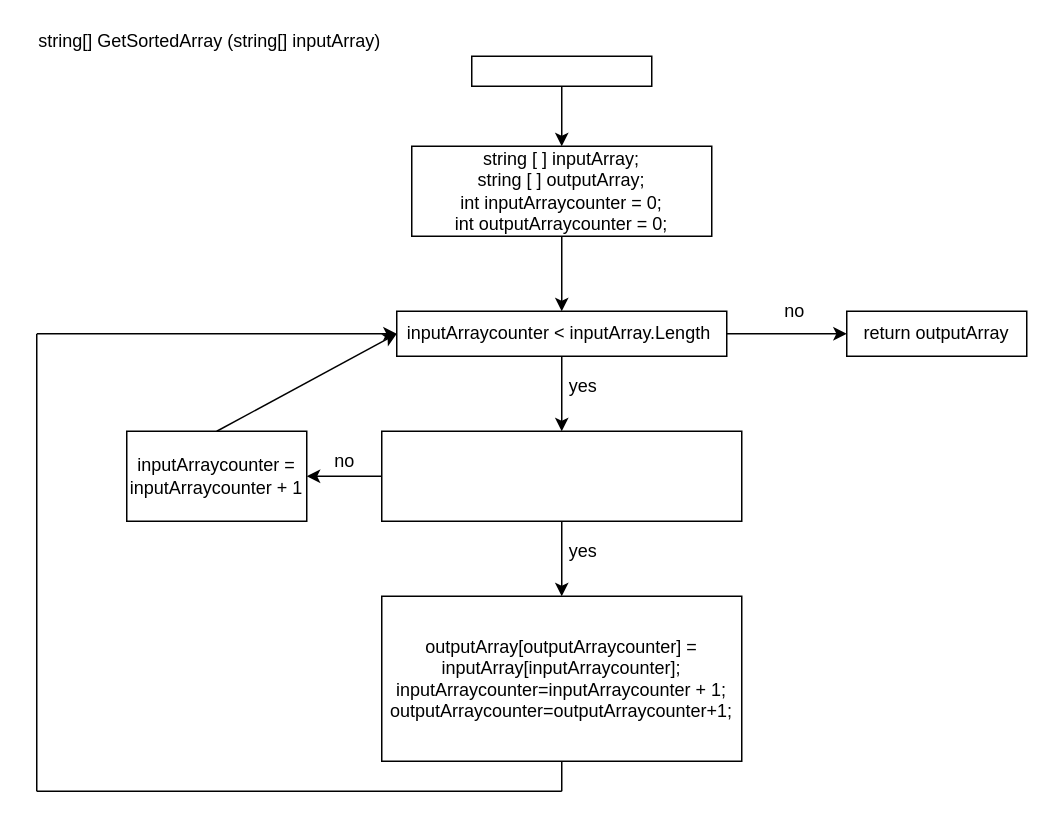
Some shapes in this 1053 by 819 pixel diagram are drawn without their labels. Each missing label, with the centre of its shape:
"inputArray[inputArraycounter].Length <= 3" goes at [561,475].
"Старт" goes at [561,70].
